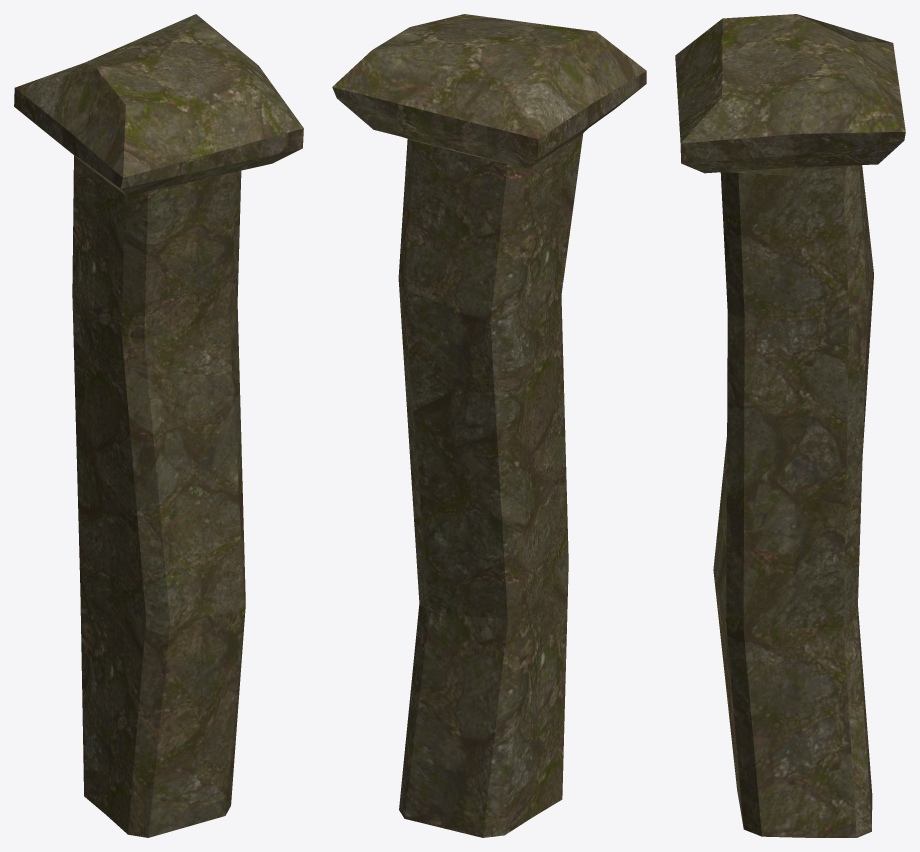
Rendered from column2_GEO.fbx.
The picture shows the model from 3 angles, left to right: view 1: azimuth 30°, elevation 25°; view 2: azimuth 150°, elevation 25°; view 3: azimuth 270°, elevation 25°; orthographic projection. The views are drawn at different scales.
Parts seen in each view (by area): view 1: column2_GEO; view 2: column2_GEO; view 3: column2_GEO.
Part boxes in pixels (x1=…): column2_GEO: x1=14, y1=14, x2=303, y2=837; column2_GEO: x1=332, y1=14, x2=646, y2=837; column2_GEO: x1=675, y1=14, x2=905, y2=837.
Size of the model in its own units: 1.8 by 6.53 by 1.78.
